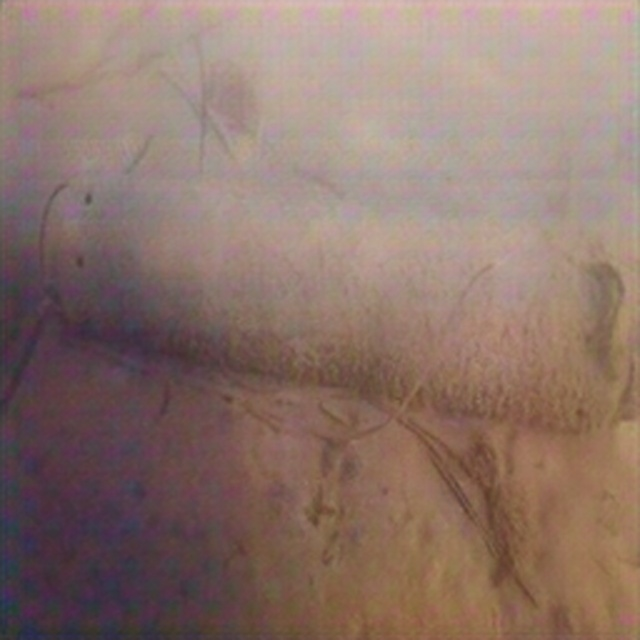mine: (38, 172, 639, 437)
